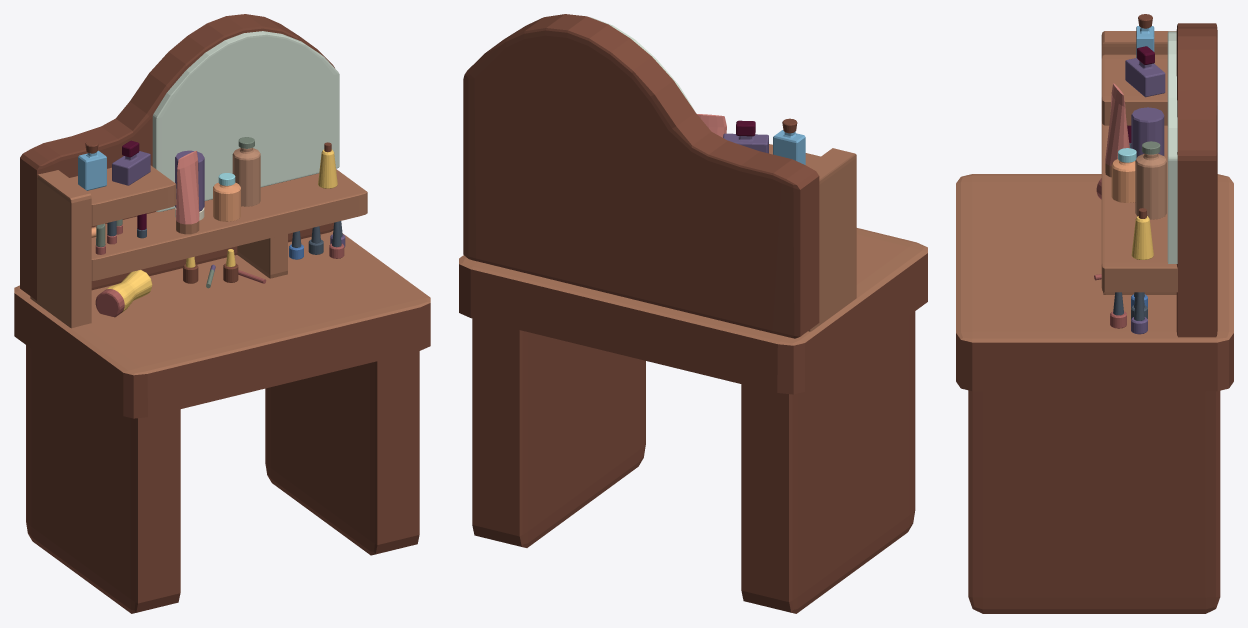
The model's file is Bedroom_BeautyTable.fbx.
3 renders of one model, left to right at view 1: azimuth 30°, elevation 25°; view 2: azimuth 150°, elevation 25°; view 3: azimuth 270°, elevation 25°, orthographic. The views are drawn at different scales.
Parts seen in each view (by area): view 1: Bedroom_BeautyTable.001, Bedroom_BeautyTable.002, Bedroom_BeautyTable.003, Bedroom_BeautyTable.004, Bedroom_BeautyTable.021, Bedroom_BeautyTable.022, Bedroom_BeautyTable.009, Bedroom_BeautyTable.010, Bedroom_BeautyTable.023, Bedroom_BeautyTable.025, Bedroom_BeautyTable.015, Bedroom_BeautyTable.016 (+2 smaller); view 2: Bedroom_BeautyTable.001, Bedroom_BeautyTable.002, Bedroom_BeautyTable.003, Bedroom_BeautyTable.025; view 3: Bedroom_BeautyTable.001, Bedroom_BeautyTable.002, Bedroom_BeautyTable.003, Bedroom_BeautyTable.004, Bedroom_BeautyTable.022, Bedroom_BeautyTable.010, Bedroom_BeautyTable.005, Bedroom_BeautyTable.021, Bedroom_BeautyTable.023, Bedroom_BeautyTable.020, Bedroom_BeautyTable.015, Bedroom_BeautyTable.025.
Boxes of the visible parts, box(x1,y1,x2,y2) form: Bedroom_BeautyTable.001: box(14, 14, 430, 613); Bedroom_BeautyTable.002: box(14, 230, 430, 375); Bedroom_BeautyTable.003: box(30, 165, 367, 328); Bedroom_BeautyTable.004: box(152, 31, 339, 211); Bedroom_BeautyTable.021: box(176, 150, 199, 224); Bedroom_BeautyTable.022: box(232, 147, 260, 206); Bedroom_BeautyTable.009: box(106, 249, 235, 312); Bedroom_BeautyTable.010: box(112, 151, 345, 247); Bedroom_BeautyTable.023: box(213, 182, 240, 221); Bedroom_BeautyTable.025: box(78, 150, 106, 190); Bedroom_BeautyTable.015: box(107, 221, 342, 254); Bedroom_BeautyTable.016: box(95, 224, 266, 317); Bedroom_BeautyTable.001: box(459, 14, 927, 613); Bedroom_BeautyTable.002: box(459, 228, 927, 345); Bedroom_BeautyTable.003: box(769, 144, 856, 331); Bedroom_BeautyTable.025: box(773, 130, 805, 164); Bedroom_BeautyTable.001: box(956, 14, 1233, 613); Bedroom_BeautyTable.002: box(956, 174, 1233, 342); Bedroom_BeautyTable.003: box(1101, 31, 1177, 294); Bedroom_BeautyTable.004: box(1167, 31, 1177, 263); Bedroom_BeautyTable.022: box(1135, 153, 1166, 219); Bedroom_BeautyTable.010: box(1125, 58, 1165, 334); Bedroom_BeautyTable.005: box(1131, 107, 1164, 157); Bedroom_BeautyTable.021: box(1105, 83, 1129, 166); Bedroom_BeautyTable.023: box(1111, 159, 1135, 202); Bedroom_BeautyTable.020: box(1131, 216, 1153, 259); Bedroom_BeautyTable.015: box(1113, 143, 1147, 320); Bedroom_BeautyTable.025: box(1136, 26, 1154, 57).
Bounding box in the file's own units: 73.77 × 156 × 106.
